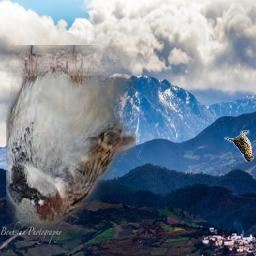Sparrow: (6, 46, 136, 229), (224, 130, 254, 162)
